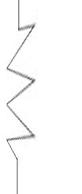resistor: (3, 15, 44, 152)
